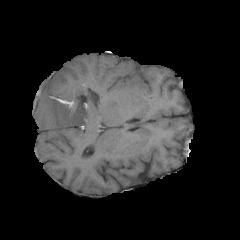glioma: (32, 76, 101, 131)
